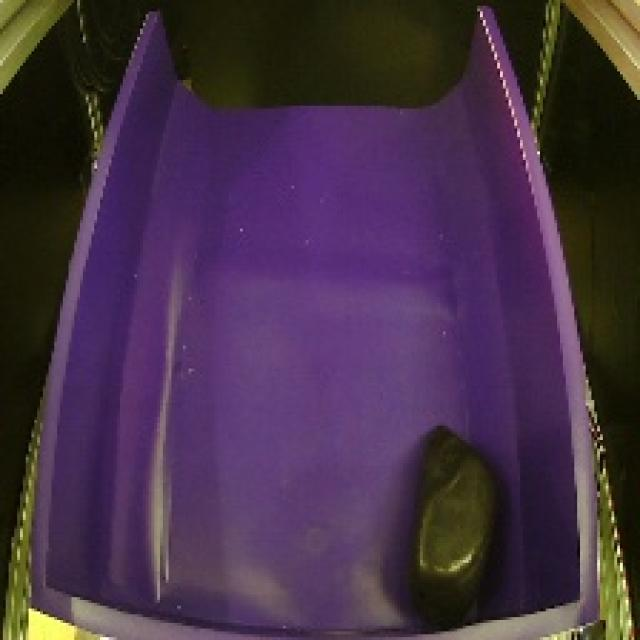cobbles: (384, 418, 517, 621)
